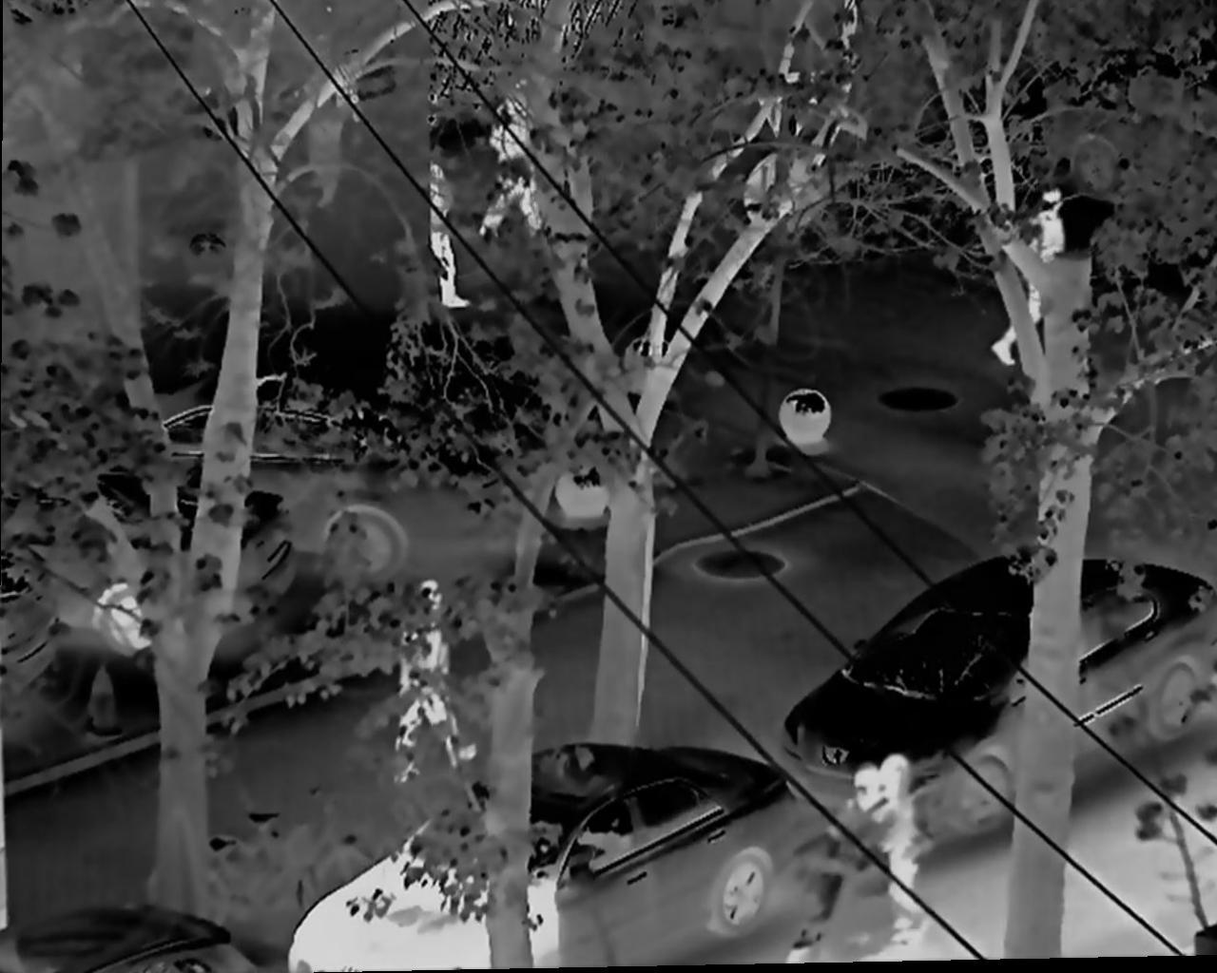person: (395, 632, 476, 779), (880, 757, 932, 926), (434, 163, 474, 312)
